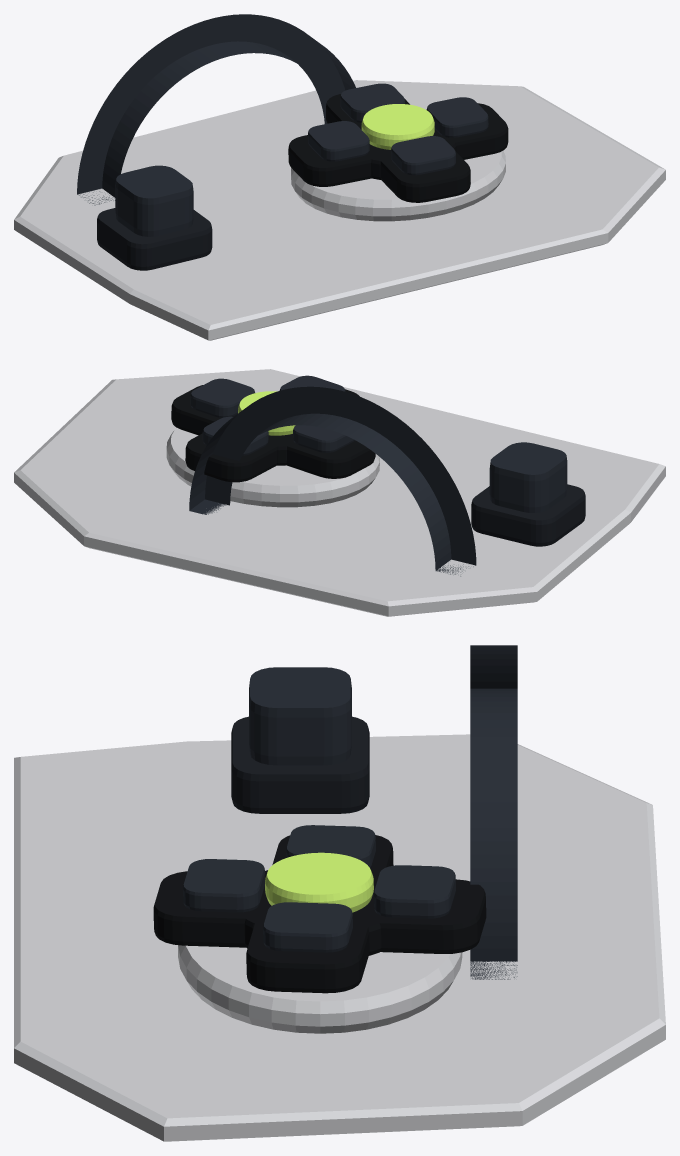
Rendered from chapter-welcome-v2.glb.
3 renders of one model, top to bottom at view 1: azimuth 30°, elevation 25°; view 2: azimuth 150°, elevation 25°; view 3: azimuth 270°, elevation 25°, orthographic. The views are drawn at different scales.
Parts seen in each view (by area): view 1: welcome-porcelain-ground, welcome-open-doorway, welcome-focus-disc, welcome-step-b, welcome-step-a, focus-key-body-south, focus-key-body-west, focus-key-confirm-disc, focus-key-south, focus-key-west, focus-key-east, focus-key-body-east (+3 smaller); view 2: welcome-porcelain-ground, welcome-open-doorway, welcome-focus-disc, welcome-step-b, welcome-step-a, focus-key-body-west, focus-key-body-north, focus-key-east, focus-key-west, focus-key-body-east, focus-key-north, focus-key-south (+2 smaller); view 3: welcome-porcelain-ground, welcome-open-doorway, welcome-focus-disc, welcome-step-b, welcome-step-a, focus-key-body-east, focus-key-confirm-disc, focus-key-body-north, focus-key-body-south, focus-key-east, focus-key-north, focus-key-south (+3 smaller).
Part boxes in pixels (left/top/right/bottom): welcome-porcelain-ground: left=14, top=80, right=665, bottom=340; welcome-open-doorway: left=77, top=14, right=355, bottom=205; welcome-focus-disc: left=291, top=151, right=505, bottom=221; welcome-step-b: left=115, top=165, right=193, bottom=236; welcome-step-a: left=97, top=208, right=212, bottom=270; focus-key-body-south: left=377, top=151, right=470, bottom=202; focus-key-body-west: left=288, top=127, right=388, bottom=186; focus-key-confirm-disc: left=361, top=104, right=434, bottom=149; focus-key-south: left=391, top=136, right=455, bottom=175; focus-key-west: left=308, top=121, right=369, bottom=161; focus-key-east: left=426, top=97, right=488, bottom=137; focus-key-body-east: left=434, top=103, right=508, bottom=159; welcome-porcelain-ground: left=14, top=369, right=665, bottom=616; welcome-open-doorway: left=189, top=386, right=476, bottom=576; welcome-focus-disc: left=166, top=428, right=379, bottom=507; welcome-step-b: left=489, top=442, right=567, bottom=512; welcome-step-a: left=471, top=484, right=585, bottom=546; focus-key-body-west: left=275, top=435, right=375, bottom=478; focus-key-body-north: left=185, top=433, right=277, bottom=482; focus-key-east: left=190, top=378, right=254, bottom=417; focus-key-west: left=293, top=425, right=354, bottom=452; focus-key-body-east: left=171, top=385, right=221, bottom=435; focus-key-north: left=202, top=416, right=268, bottom=455; focus-key-south: left=279, top=375, right=345, bottom=391; welcome-porcelain-ground: left=14, top=734, right=665, bottom=1141; welcome-open-doorway: left=470, top=645, right=517, bottom=979; welcome-focus-disc: left=178, top=945, right=462, bottom=1033; welcome-step-b: left=249, top=667, right=351, bottom=765; welcome-step-a: left=231, top=716, right=369, bottom=813; focus-key-body-east: left=246, top=915, right=369, bottom=993; focus-key-confirm-disc: left=265, top=852, right=373, bottom=912; focus-key-body-north: left=353, top=879, right=486, bottom=953; focus-key-body-south: left=153, top=871, right=267, bottom=947; focus-key-east: left=263, top=902, right=352, bottom=952; focus-key-north: left=373, top=865, right=455, bottom=918; focus-key-south: left=183, top=859, right=264, bottom=912.
Size of the model in its own units: 4.7 by 1.32 by 3.3.
